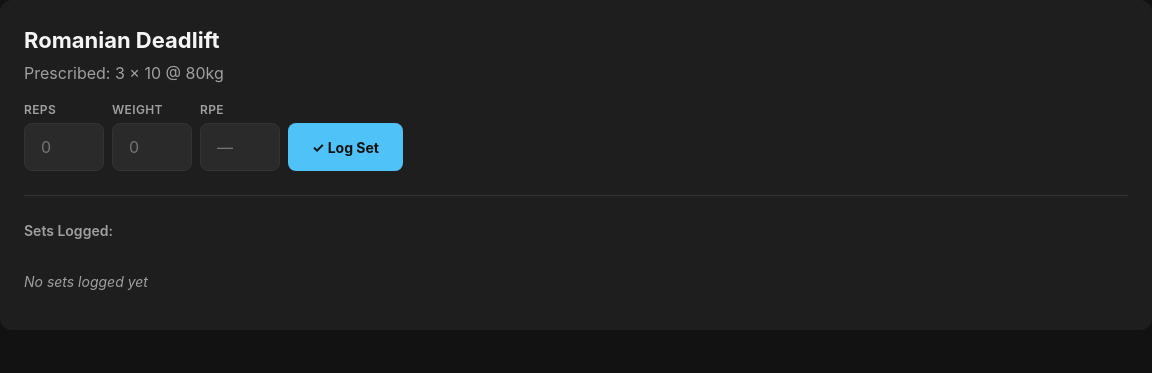
LoggingPanel › Strength variant › shows validation error when reps is missing
Type "80" into the number field named "Weight used" at {"x": 152, "y": 147}, box left=112, top=123, right=192, bottom=171
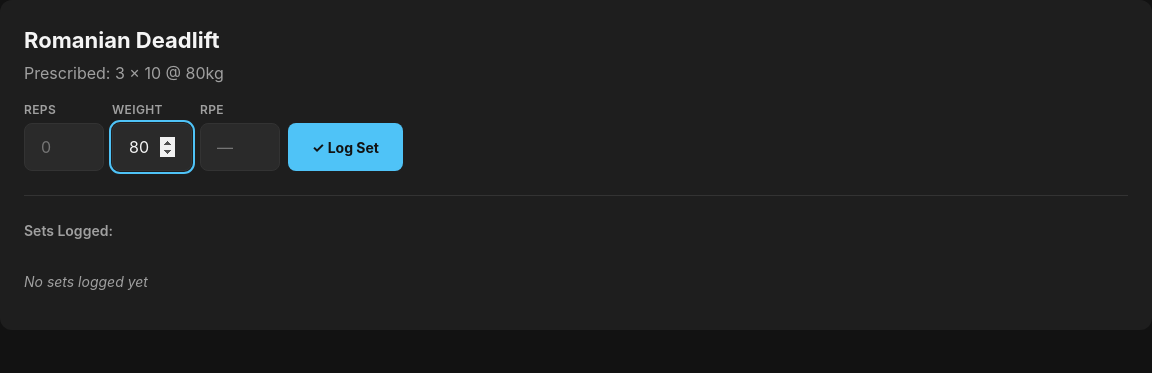
Submit the form with test id "set-log-form", box left=24, top=102, right=403, bottom=171
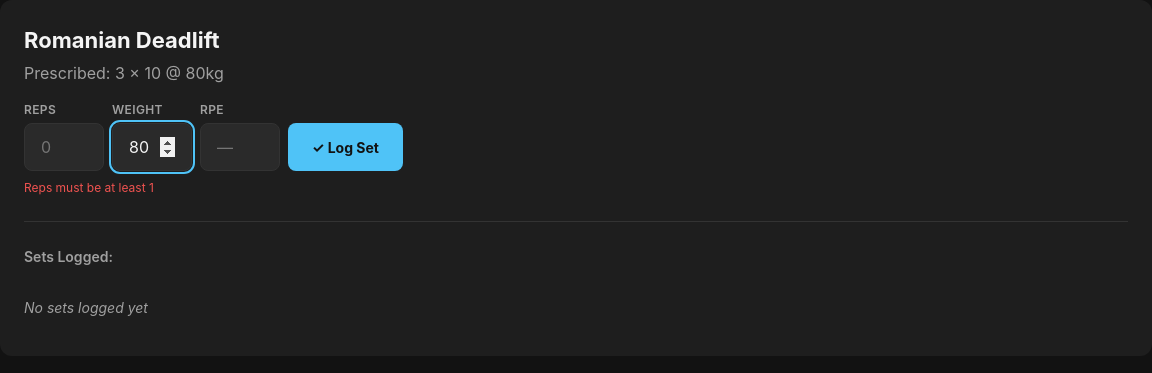
Expected: the message reads "Reps must be at least 1", left=24, top=180, right=154, bottom=195
